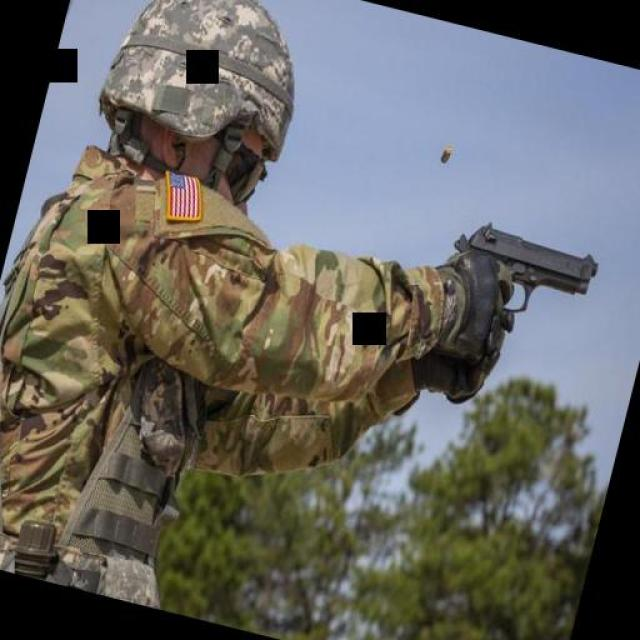gun: (439, 206, 605, 335)
